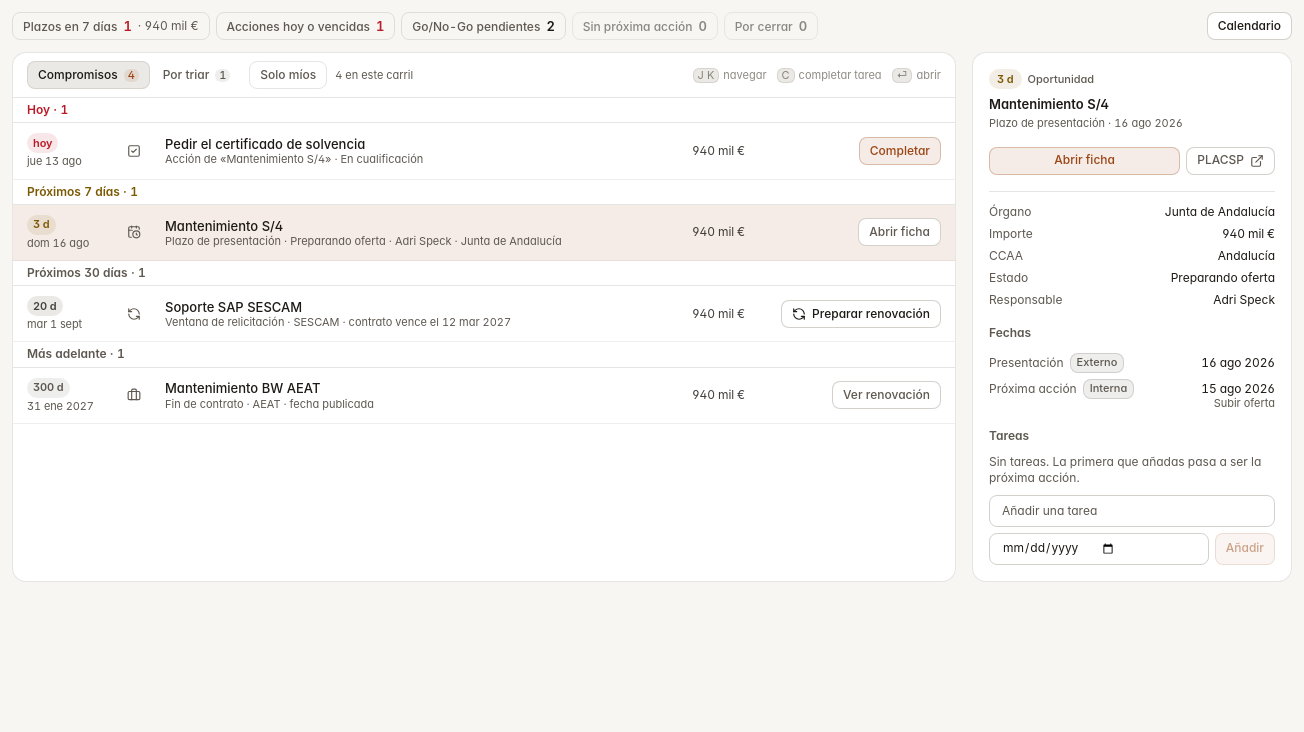
Test case: AgendaView — inspector › el contrato enseña fin efectivo, prórrogas, ventana y sus dos enlaces
// Seleccionar la fila del contrato ya renovado (la cuarta del carril).
Click the text "Mantenimiento BW AEAT".
click(243, 388)  # box [165, 380, 320, 396]
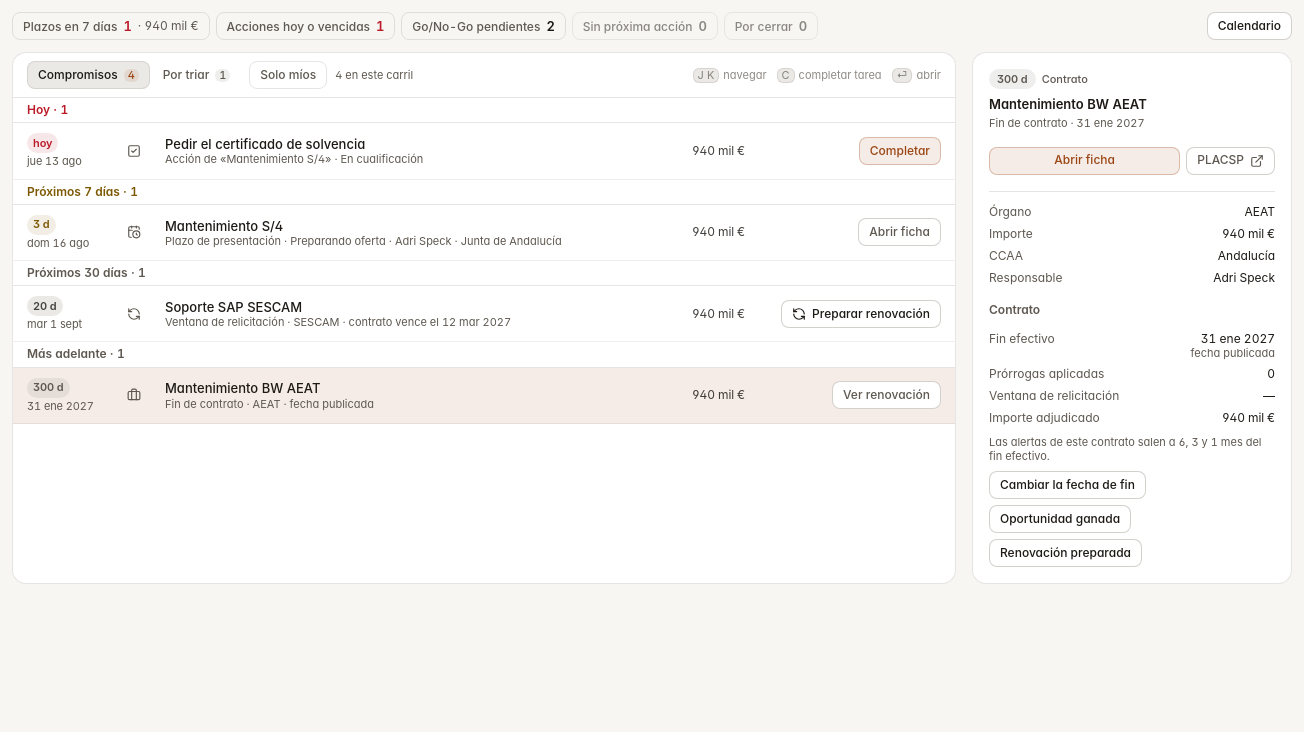
Expected: the text "Fin efectivo" is shown, [989, 330, 1055, 347]
Expected: the text "Prórrogas aplicadas" is shown, [989, 366, 1104, 382]
Expected: the text "Ventana de relicitación" is shown, [989, 388, 1119, 404]
